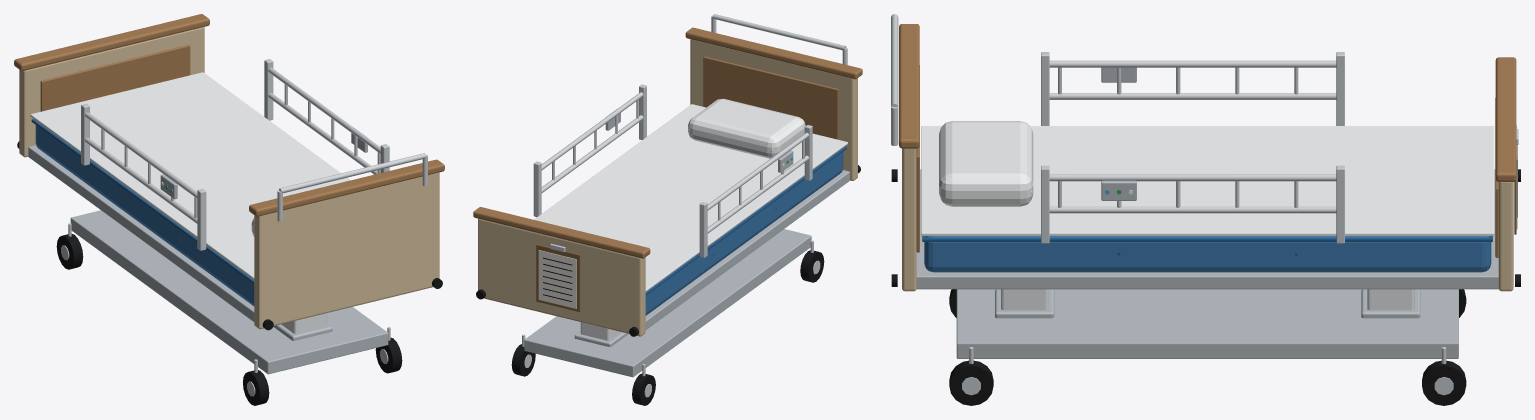
The model's file is Hospital_Bed.glb.
3 views of the same model, side by side, from view 1: azimuth 30°, elevation 25°; view 2: azimuth 150°, elevation 25°; view 3: azimuth 270°, elevation 25° (orthographic). The views are drawn at different scales.
Visible parts, largest first — view 1: FittedSheet, Headboard, Chassis, Mattress, FootInset, Footboard, Deck, FootCap, HeadCap, PipingSide, PushBar, RailBar.001 (+11 smaller); view 2: FittedSheet, Footboard, Chassis, HeadInset, Pillow, Headboard, Mattress, Deck, FootCap, HeadCap, ChartPaper, PipingSide (+15 smaller); view 3: FittedSheet, Chassis, Mattress, Deck, Pillow, PipingSide.001, FootCap, HeadCap, RailBar.001, RailBar.002, RailBar.003, Headboard (+14 smaller).
Boxes of the visible parts, x1,y1,x2,y2 form: FittedSheet: [30, 72, 350, 279]; Headboard: [254, 172, 439, 329]; Chassis: [70, 210, 388, 374]; Mattress: [35, 125, 254, 306]; FootInset: [40, 45, 190, 111]; Footboard: [19, 27, 204, 157]; Deck: [28, 145, 254, 321]; FootCap: [14, 14, 209, 70]; HeadCap: [249, 159, 444, 216]; PipingSide: [31, 119, 254, 284]; PushBar: [279, 153, 426, 193]; RailBar.001: [85, 112, 197, 198]; FittedSheet: [534, 104, 847, 291]; Footboard: [478, 218, 645, 336]; Chassis: [524, 229, 811, 377]; HeadInset: [703, 56, 838, 139]; Pillow: [688, 98, 805, 158]; Headboard: [690, 39, 857, 180]; Mattress: [645, 152, 843, 315]; Deck: [645, 170, 849, 329]; FootCap: [473, 207, 650, 258]; HeadCap: [685, 27, 862, 79]; ChartPaper: [538, 250, 576, 308]; PipingSide: [645, 146, 846, 295]; FittedSheet: [921, 126, 1494, 235]; Chassis: [956, 289, 1458, 358]; Mattress: [924, 236, 1491, 272]; Deck: [916, 169, 1498, 289]; Pillow: [939, 121, 1033, 206]; PipingSide.001: [922, 237, 1492, 241]; FootCap: [1495, 57, 1516, 181]; HeadCap: [899, 24, 919, 148]; RailBar.001: [1049, 60, 1336, 67]; RailBar.002: [1049, 206, 1336, 213]; RailBar.003: [1049, 174, 1336, 181]; Headboard: [902, 148, 916, 291].
Bounding box in the file's own units: 0.971 × 1.13 × 2.13.
